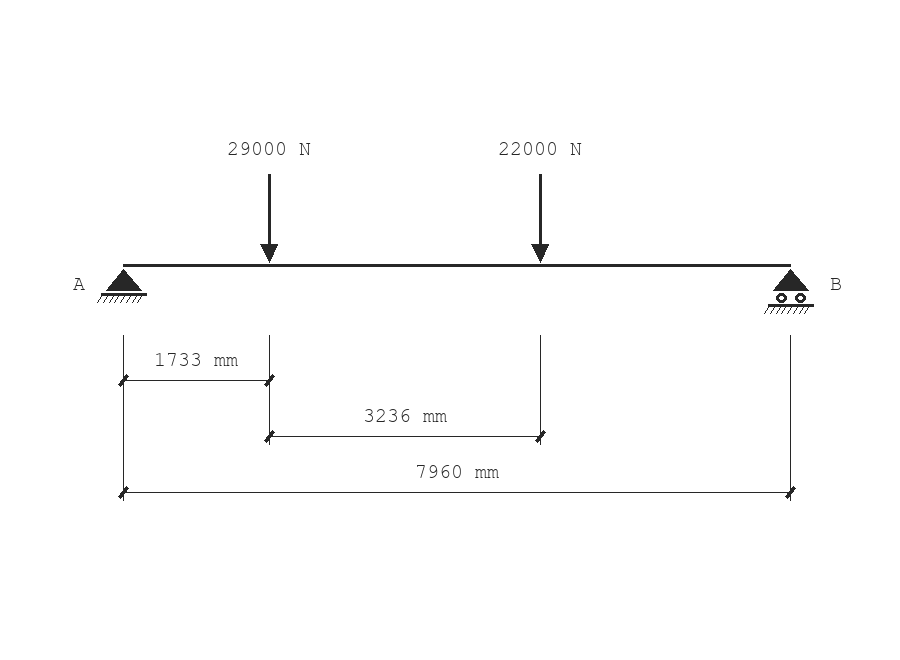pin_support: (97, 269, 147, 303)
point_load: (260, 174, 278, 263), (531, 174, 549, 263)
roller_support: (764, 269, 814, 314)
